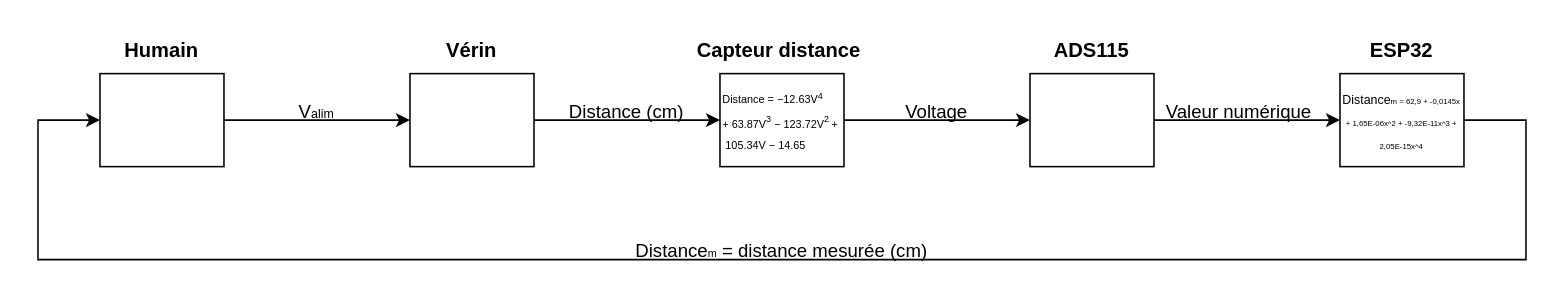
This 1566x301 diagram has some shape labels left out. The shapes that lost their labels are listed below. From the top down, each one's centre as x and y in pixels, then its label:
the point at 471,119: Distance = V alim x 4.93 x t
the point at 1091,119: Voltage = (numCapteur* 4.096) / 32767
